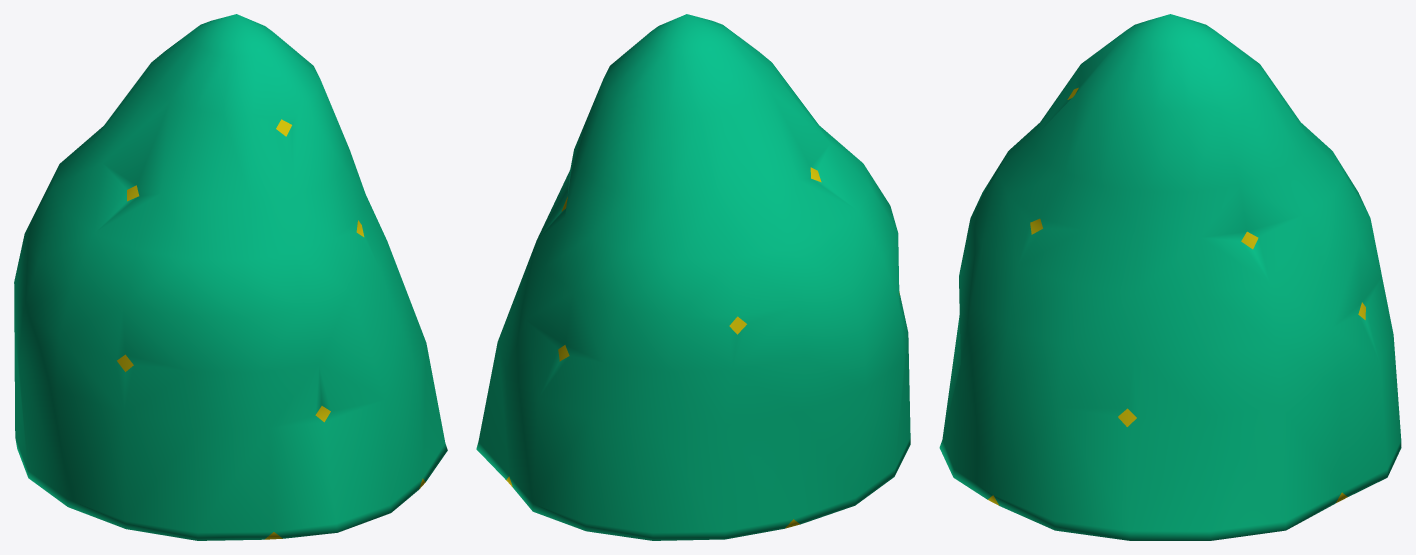
Rendered from Sweet_potato_half_01.fbx.
The picture shows the model from 3 angles, left to right: view 1: azimuth 30°, elevation 25°; view 2: azimuth 150°, elevation 25°; view 3: azimuth 270°, elevation 25°; orthographic projection.
Visible parts, largest first — view 1: Sweet_potato_half_01; view 2: Sweet_potato_half_01; view 3: Sweet_potato_half_01.
Part boxes in pixels (x1,y1,x2,y2): Sweet_potato_half_01: [14, 14, 447, 540]; Sweet_potato_half_01: [476, 14, 910, 540]; Sweet_potato_half_01: [939, 14, 1401, 540].
Bounding box in the file's own units: 66.87 × 70.33 × 73.9.
